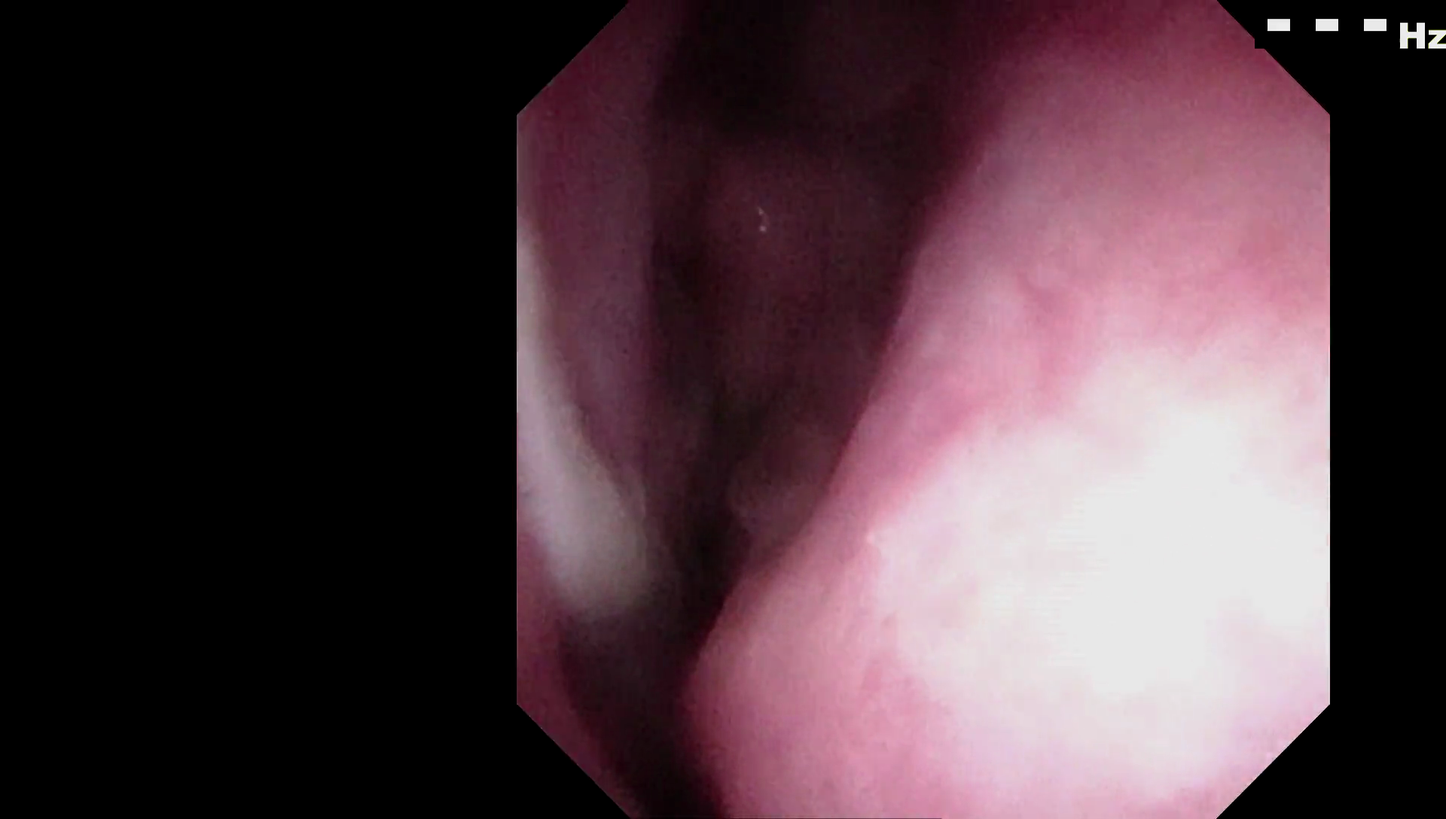close_wall: (833, 358, 1278, 751)
next: (560, 623, 749, 819), (617, 2, 831, 156), (649, 410, 764, 654)
